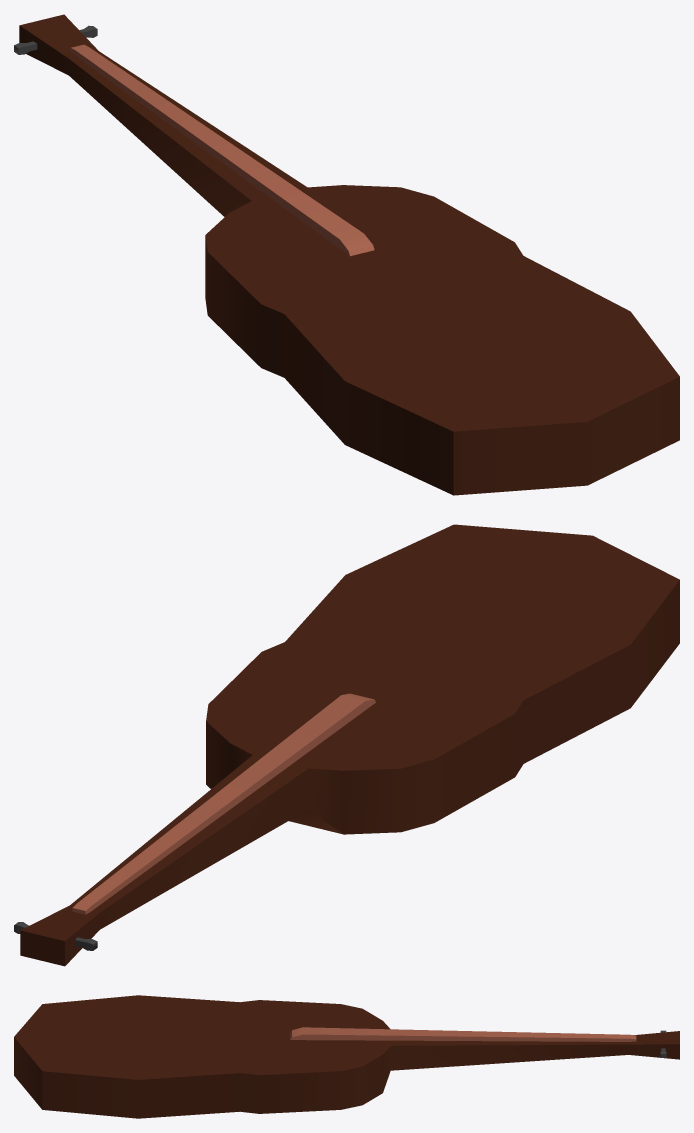
File: ViolinPrototypeModel.FBX
The picture shows the model from 3 angles, top to bottom: view 1: azimuth 30°, elevation 25°; view 2: azimuth 150°, elevation 25°; view 3: azimuth 270°, elevation 25°; orthographic projection. The views are drawn at different scales.
Visible parts, largest first — view 1: Box001; view 2: Box001; view 3: Box001.
Boxes of the visible parts, left/top/right/bottom form: Box001: left=14, top=14, right=679, bottom=495; Box001: left=14, top=524, right=679, bottom=966; Box001: left=14, top=995, right=679, bottom=1118.
Bounding box in the file's own units: 1.01 × 0.2516 × 3.35.
